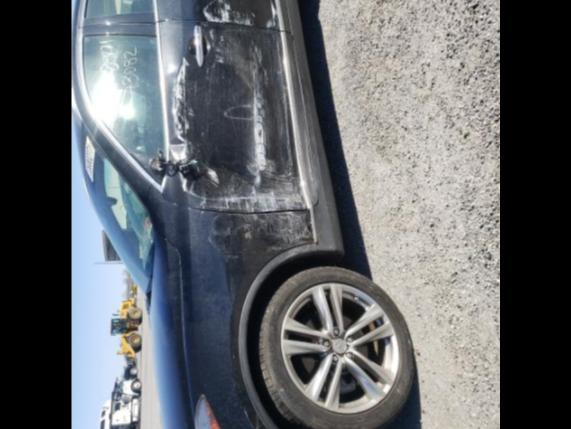Dent: (167, 0, 316, 258)
Scratch: (200, 182, 307, 209), (200, 0, 258, 27)
broken_mirror: (146, 147, 196, 180)
